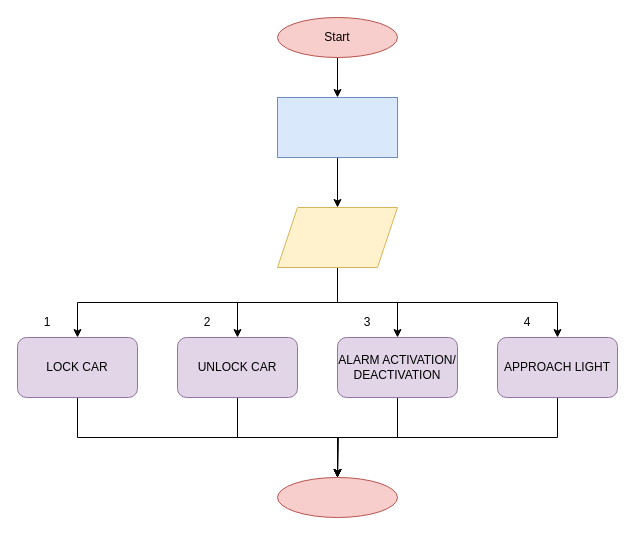
Image size: 635x535. Some labels were removed from this diagram. The box of each missing label's shape, as (x1, y1, x2, y2) in pixels:
End: (276, 476, 398, 518)
Switch: (276, 96, 398, 158)
User Input (No. of times pressed): (276, 206, 398, 268)
